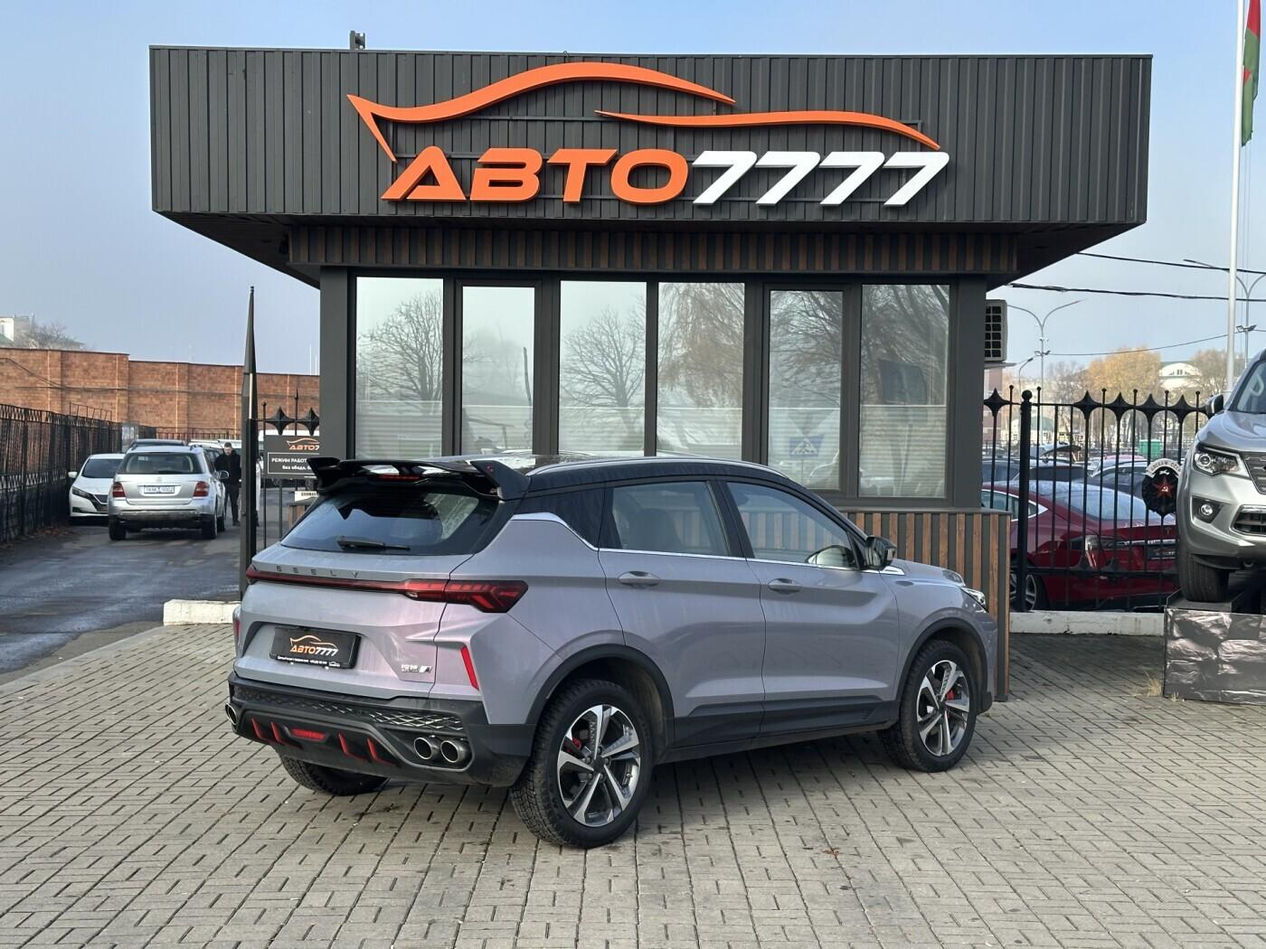Coolray_2019-2023: (220, 451, 997, 850)
